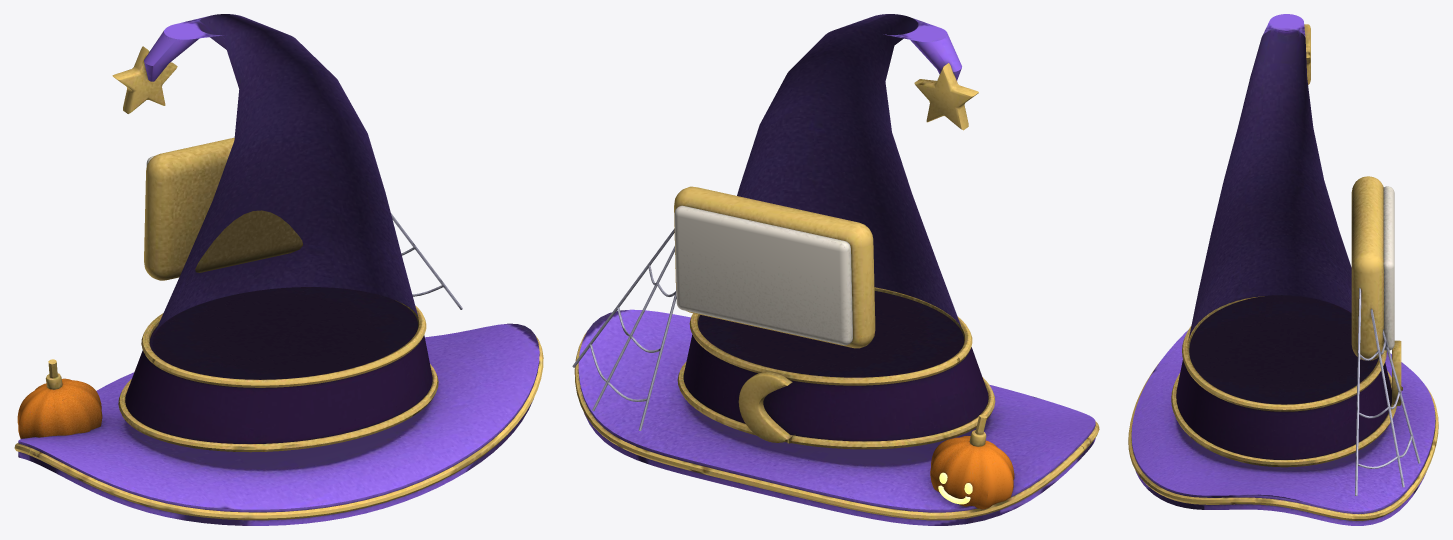
3 views of the same model, side by side, from view 1: azimuth 30°, elevation 25°; view 2: azimuth 150°, elevation 25°; view 3: azimuth 270°, elevation 25° (orthographic). The views are drawn at different scales.
Parts seen in each view (by area): view 1: Witch_purple_lacquer, Night_plum_satin_band, Moon_gold, Pumpkin_orange_lacquer; view 2: Witch_purple_lacquer, Night_plum_satin_band, Moon_gold, Blank_ghost_ivory_enamel, Pumpkin_orange_lacquer, Silvery_silk; view 3: Witch_purple_lacquer, Night_plum_satin_band, Moon_gold, Silvery_silk, Blank_ghost_ivory_enamel.
Part boxes in pixels (bbox=[...]): Witch_purple_lacquer: bbox=[18, 14, 539, 525]; Night_plum_satin_band: bbox=[125, 287, 432, 443]; Moon_gold: bbox=[14, 46, 543, 520]; Pumpkin_orange_lacquer: bbox=[17, 378, 102, 438]; Witch_purple_lacquer: bbox=[578, 14, 1095, 525]; Night_plum_satin_band: bbox=[683, 291, 988, 441]; Moon_gold: bbox=[574, 63, 1099, 520]; Blank_ghost_ivory_enamel: bbox=[674, 205, 852, 345]; Pumpkin_orange_lacquer: bbox=[930, 436, 1014, 509]; Silvery_silk: bbox=[572, 228, 676, 430]; Witch_purple_lacquer: bbox=[1131, 14, 1435, 525]; Night_plum_satin_band: bbox=[1176, 295, 1391, 459]; Moon_gold: bbox=[1128, 24, 1438, 520]; Silvery_silk: bbox=[1355, 287, 1420, 495]; Blank_ghost_ivory_enamel: bbox=[1383, 186, 1394, 350].
Bounding box in the file's own units: 1.6 × 1.35 × 0.9814.
Materials: 7 (6 with a texture image).
